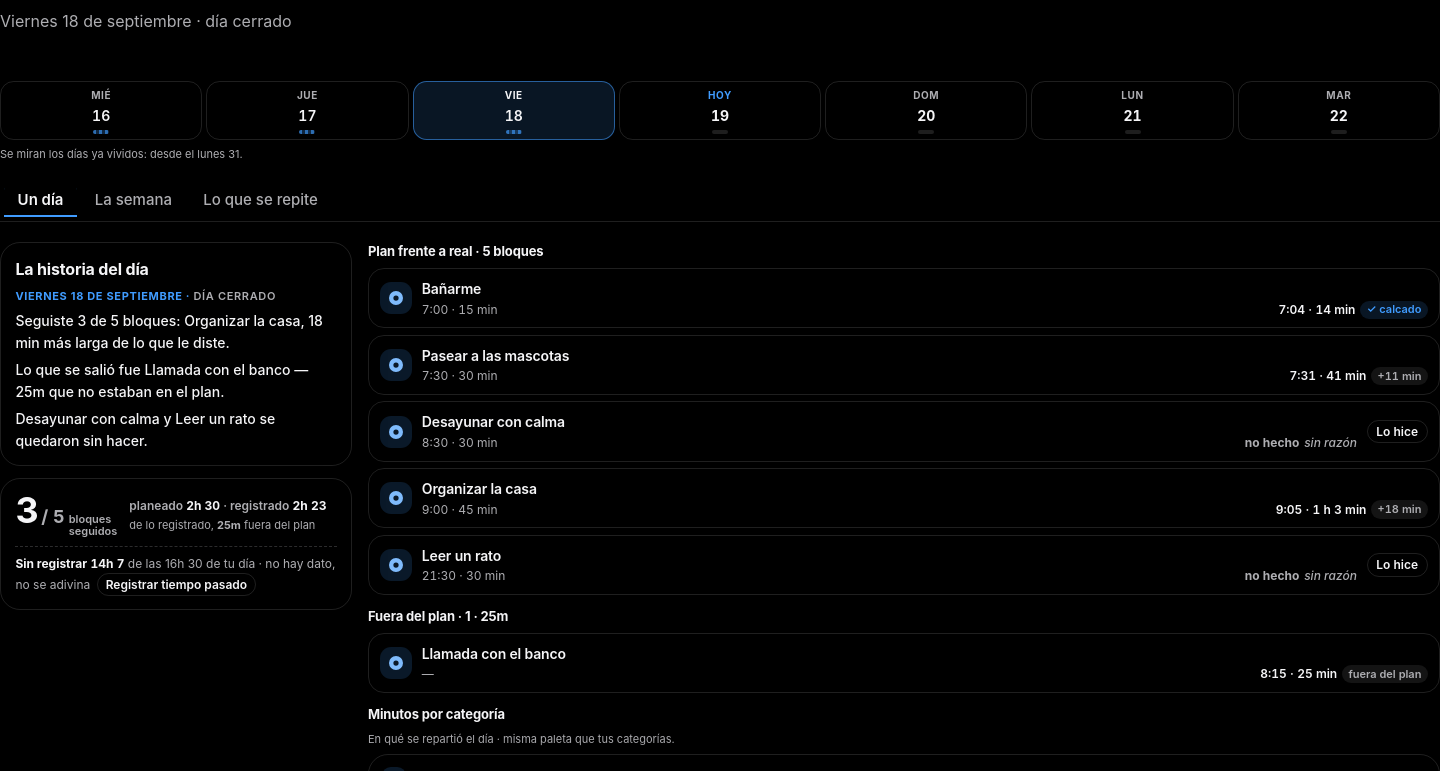
Test: el puente a la plantilla (criterios 54, 57, 58 y 59) › con base, **pregunta** con su porqué y su consecuencia antes de confirmar (54, 57)
Step 1. Click the tab "La semana" → coordinates (133, 200), box [81, 182, 186, 217]
(page scrolled)
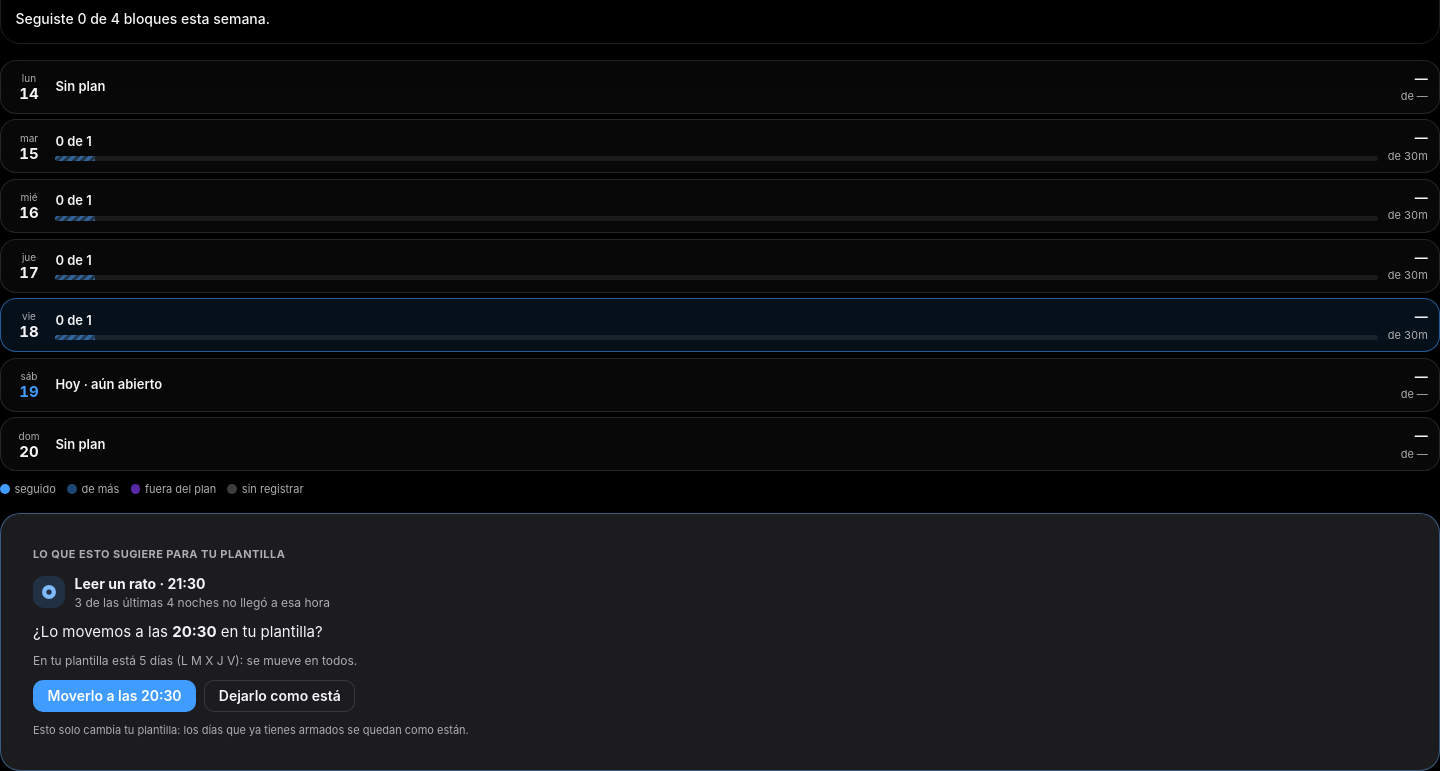
expect the heading "Lo que esto sugiere para tu plantilla" is shown: met, box [33, 548, 285, 562]
expect the text "Leer un rato · 21:30" is shown: met, box [75, 574, 206, 592]
expect the text "3 de las últimas 4 noches no llegó a esa hora" is shown: met, box [75, 594, 330, 610]
